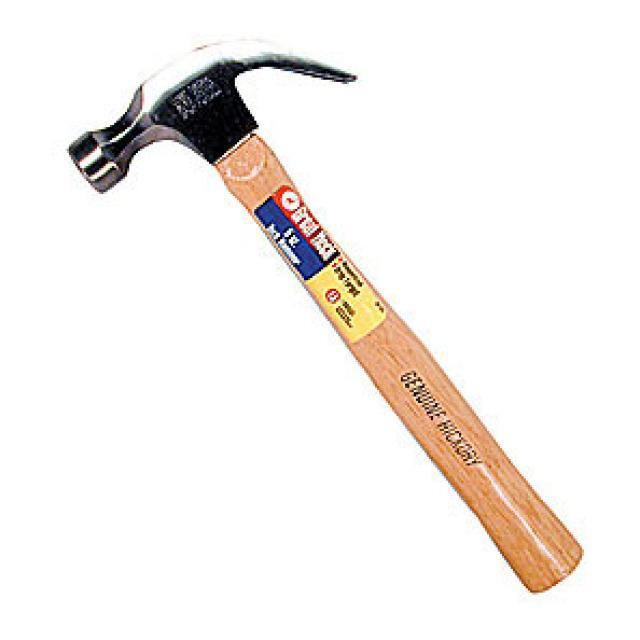hammer: (61, 26, 591, 602)
